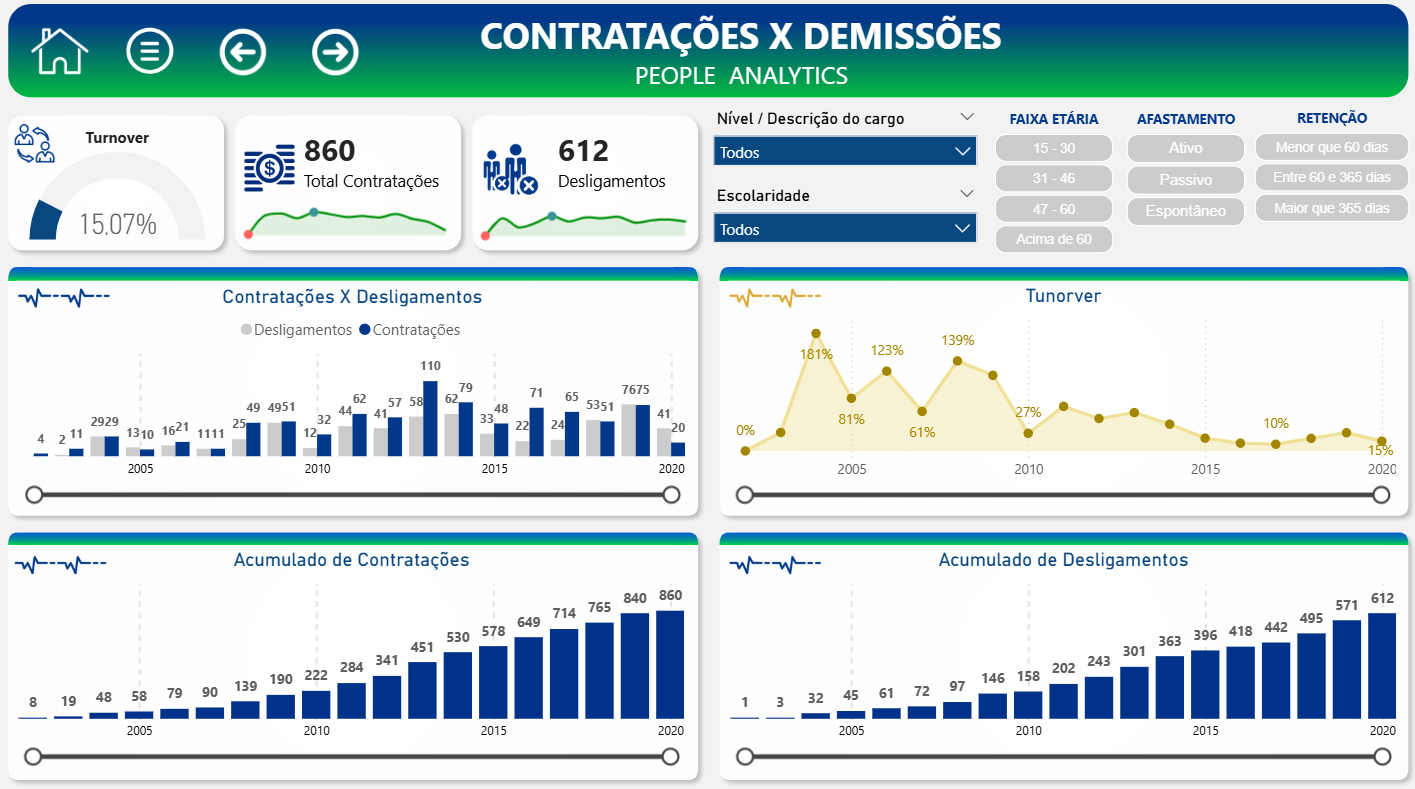

The page's visual inventory and layout, read from the dashboard file:
{"tool":"powerbi","page":{"name":"Contratações x Demissões","canvas":[1280,720],"ordinal":2},"visuals":[{"type":"lineClusteredColumnComboChart","title":"Contratações X Desligamentos","fields":{"Category":["dCalendario.ANO","dCalendario.MÊS ABREVIADO"],"Y":["Medidas_Funcionarios.Demissões","Medidas_Funcionarios.Total Contratações"]},"box":[22.9,264.7,600.2,197.2],"z":0},{"type":"areaChart","title":"Tunorver","fields":{"Category":["dCalendario.ANO","dCalendario.MÊS ABREVIADO"],"Y":["Medidas_Funcionarios.Turnover Dimensional"]},"box":[653.8,264,600.4,198.2],"z":1000},{"type":"lineClusteredColumnComboChart","title":"Acumulado de Contratações","fields":{"Category":["dCalendario.ANO","dCalendario.MÊS ABREVIADO"],"Y":["Medidas_Funcionarios.ACUMULADO CONTRATAÇÕES"]},"box":[22.3,498,600.4,196.4],"z":2000},{"type":"gauge","fields":{"Y":["Medidas_Funcionarios.Turnover Dimensional"]},"box":[21.9,124.9,184.9,104.8],"z":3000},{"type":"ChicletSlicer1448559807354","title":"FAIXA ETÁRIA","fields":{"Category":["dFaixa_Etária.FAIXA ETÁRIA"]},"box":[887,109,117,150],"z":4000},{"type":"multiRowCard","title":"Total de Contrarações","fields":{"Values":["Medidas_Funcionarios.Total Contratações"]},"box":[274.5,121,142,87.7],"z":5000},{"type":"PBI_CV_25997FEB_F466_44FA_B562_AC4063283C4C","fields":{"measure":["Medidas_Funcionarios.Total Contratações"],"axis":["dCalendario.MÊS ABREVIADO"]},"box":[212.5,183.9,214.4,48.6],"z":6000},{"type":"multiRowCard","title":"Total de Demissões","fields":{"Values":["Medidas_Funcionarios.Demissões"]},"box":[500.4,121,133.4,75.3],"z":7000},{"type":"PBI_CV_25997FEB_F466_44FA_B562_AC4063283C4C","fields":{"axis":["dCalendario.MÊS ABREVIADO"],"measure":["Medidas_Funcionarios.Demissões"]},"box":[423.2,186.8,217.3,45.7],"z":8000},{"type":"ChicletSlicer1448559807354","title":"RETENÇÃO","fields":{"Category":["dSegmentação.SEGMENTAÇÃO"]},"box":[1117,108,149,125],"z":9000},{"type":"ChicletSlicer1448559807354","title":"AFASTAMENTO","fields":{"Category":["dAfastamento.RETENÇÃO"]},"box":[1004,109,117,124],"z":10000},{"type":"lineClusteredColumnComboChart","title":"Acumulado de Desligamentos","fields":{"Y":["Medidas_Funcionarios.ACUMULADO DEMICOES"],"Category":["dCalendario.ANO","dCalendario.MÊS ABREVIADO"]},"box":[653.5,498,600.4,196.4],"z":11000},{"type":"textbox","box":[540,58.7,256.6,45.3],"z":12000},{"type":"textbox","box":[371,15.6,594.2,88.2],"z":13000},{"type":"slicer","fields":{"Values":["Funcionarios.Tipo Contrato","dCargos.Cargo"]},"box":[633,105,254,67],"z":15000},{"type":"slicer","fields":{"Values":["dEscolaridade.Escolaridade"]},"box":[633,172.5,253.8,65.6],"z":16000},{"type":"actionButton","box":[35,27.2,58.4,66.2],"z":17000},{"type":"actionButton","box":[199.4,26.7,54.9,66.8],"z":18000},{"type":"actionButton","box":[279.7,27.8,57.4,64.8],"z":19000},{"type":"actionButton","title":"botao menu","box":[114.8,25.9,55.6,66.7],"z":20000}]}

Visuals, with their boxes in screenshot pixels (x1, y1, x2, y2), scaled from the page's 1280x720 canvas onto the 1415x789 screenshot:
"Contratações X Desligamentos" lineClusteredColumnComboChart: locate(25, 290, 689, 506)
"Tunorver" areaChart: locate(723, 289, 1386, 506)
"Acumulado de Contratações" lineClusteredColumnComboChart: locate(25, 546, 688, 761)
gauge - Medidas_Funcionarios.Turnover Dimensional: locate(24, 137, 229, 252)
"FAIXA ETÁRIA" ChicletSlicer1448559807354: locate(981, 119, 1110, 284)
"Total de Contrarações" multiRowCard: locate(303, 133, 460, 229)
PBI_CV_25997FEB_F466_44FA_B562_AC4063283C4C - Medidas_Funcionarios.Total Contratações x dCalendario.MÊS ABREVIADO: locate(235, 202, 472, 255)
"Total de Demissões" multiRowCard: locate(553, 133, 701, 215)
PBI_CV_25997FEB_F466_44FA_B562_AC4063283C4C - dCalendario.MÊS ABREVIADO x Medidas_Funcionarios.Demissões: locate(468, 205, 708, 255)
"RETENÇÃO" ChicletSlicer1448559807354: locate(1235, 118, 1400, 255)
"AFASTAMENTO" ChicletSlicer1448559807354: locate(1110, 119, 1239, 255)
"Acumulado de Desligamentos" lineClusteredColumnComboChart: locate(722, 546, 1386, 761)
textbox: locate(597, 64, 881, 114)
textbox: locate(410, 17, 1067, 114)
slicer - Funcionarios.Tipo Contrato x dCargos.Cargo: locate(700, 115, 981, 188)
slicer - dEscolaridade.Escolaridade: locate(700, 189, 980, 261)
actionButton: locate(39, 30, 103, 102)
actionButton: locate(220, 29, 281, 102)
actionButton: locate(309, 30, 373, 101)
"botao menu" actionButton: locate(127, 28, 188, 101)
